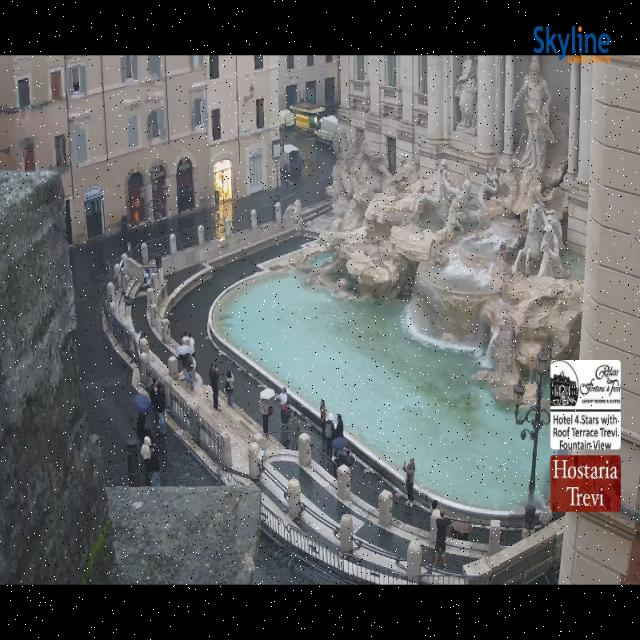person: (436, 509, 450, 568), (155, 380, 166, 437), (404, 458, 415, 505), (149, 378, 159, 427), (182, 354, 195, 391), (136, 413, 150, 447), (141, 437, 151, 484), (209, 364, 219, 410), (324, 413, 334, 459), (260, 397, 271, 437), (150, 444, 160, 487), (279, 388, 289, 430), (225, 370, 234, 408), (540, 500, 552, 527), (337, 448, 353, 467), (291, 416, 299, 450), (333, 415, 343, 438), (320, 399, 326, 432), (332, 450, 339, 478), (279, 388, 288, 404), (188, 333, 194, 354), (144, 269, 150, 287), (432, 500, 438, 512)
